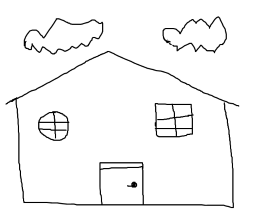closed_window: (154, 103, 193, 137), (37, 110, 69, 141)
clouds: (24, 16, 104, 55), (162, 15, 228, 53)
door: (96, 157, 147, 210)
single_line_roof: (4, 49, 240, 106)
wall: (15, 99, 235, 207)
